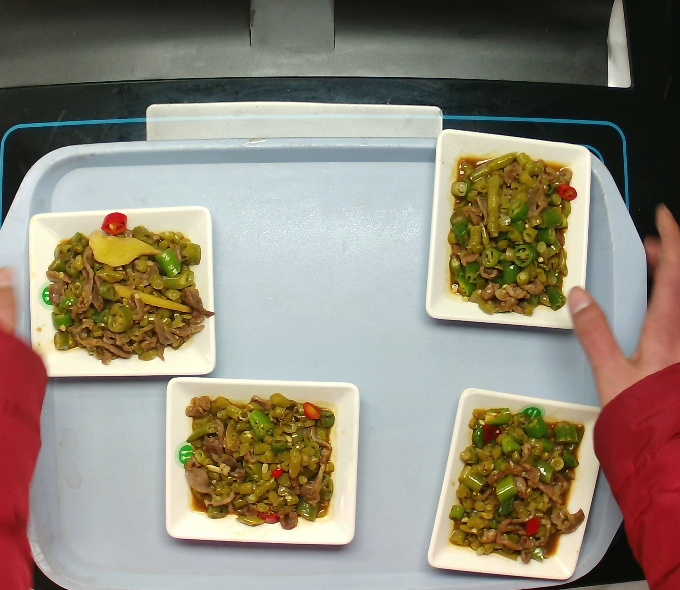wcq-SuanDouJiaoChaoJiZhen: (39, 220, 216, 371), (171, 385, 348, 536), (440, 155, 576, 320), (447, 406, 583, 571)
